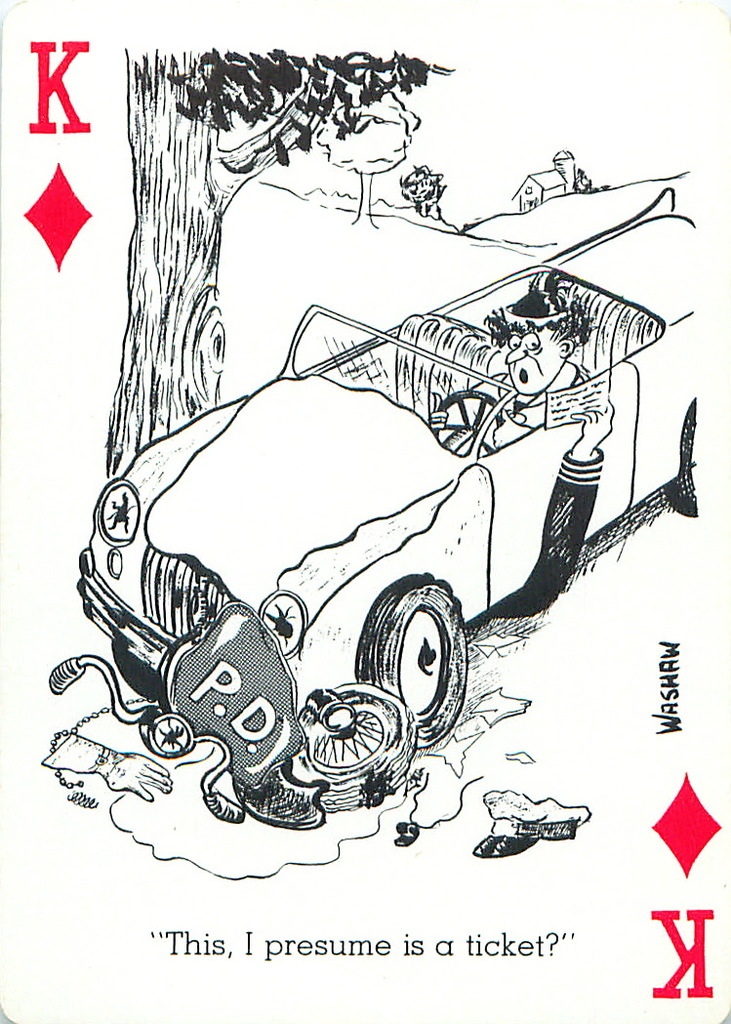Car: (42, 185, 710, 819)
